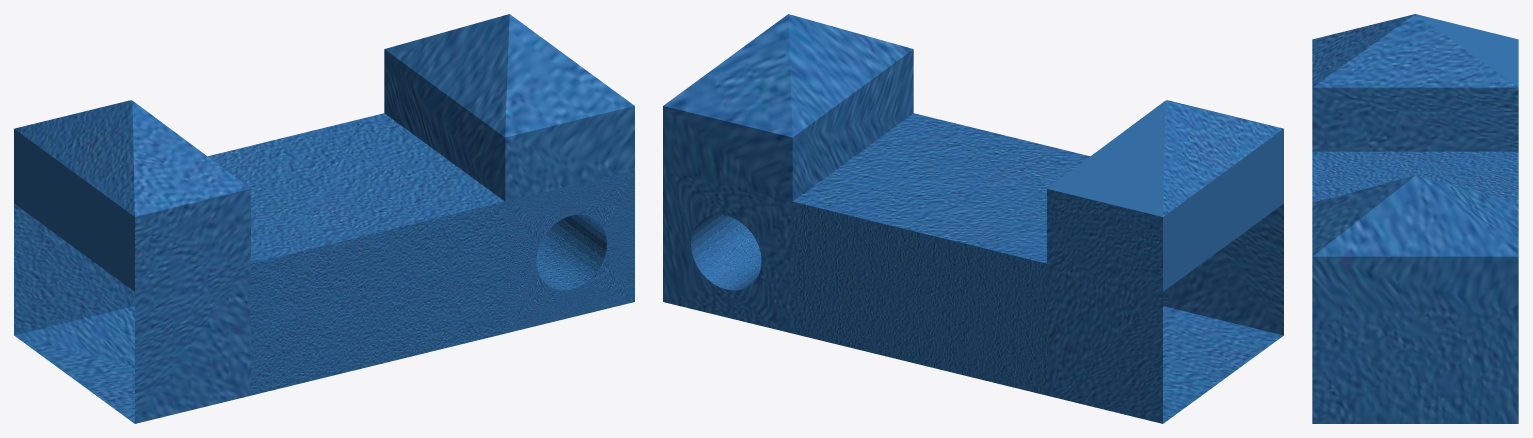
File: bench.dae
The picture shows the model from 3 angles, left to right: view 1: azimuth 30°, elevation 25°; view 2: azimuth 150°, elevation 25°; view 3: azimuth 270°, elevation 25°; orthographic projection. The views are drawn at different scales.
Visible parts, largest first — view 1: Cube; view 2: Cube; view 3: Cube.
Boxes of the visible parts, <box> form: Cube: <box>14,14,634,423</box>; Cube: <box>663,14,1283,423</box>; Cube: <box>1312,14,1518,423</box>.
Size of the model in its own units: 2.97 by 1.24 by 1.5.
Materials: 1 (1 with a texture image).
